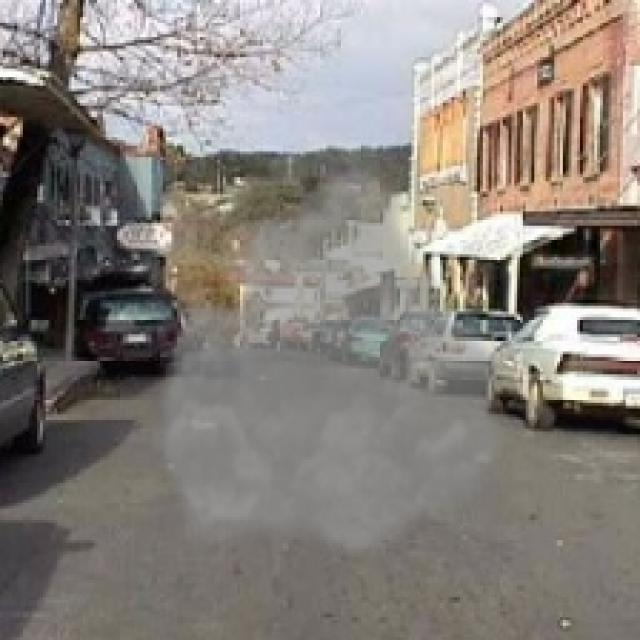smoke: (152, 154, 514, 560)
